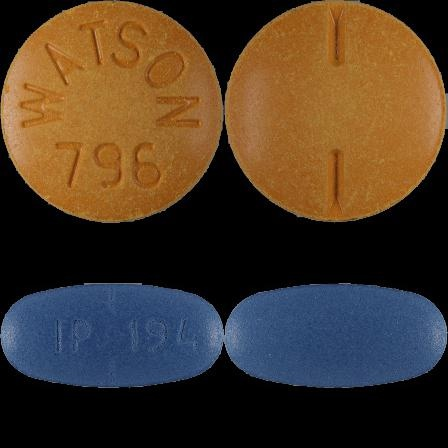68788-9021: (0, 0, 224, 224)
